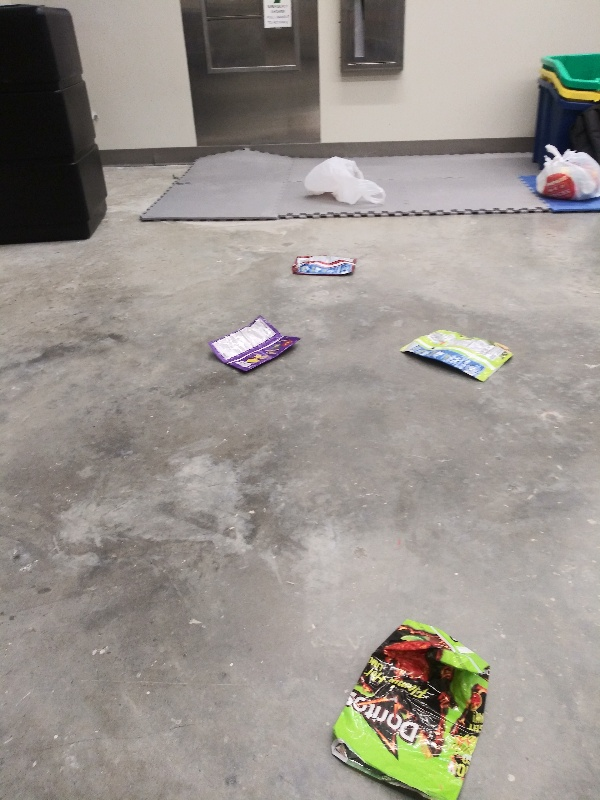bag: (327, 612, 500, 800), (394, 327, 517, 386), (205, 312, 304, 375), (290, 249, 360, 280)
